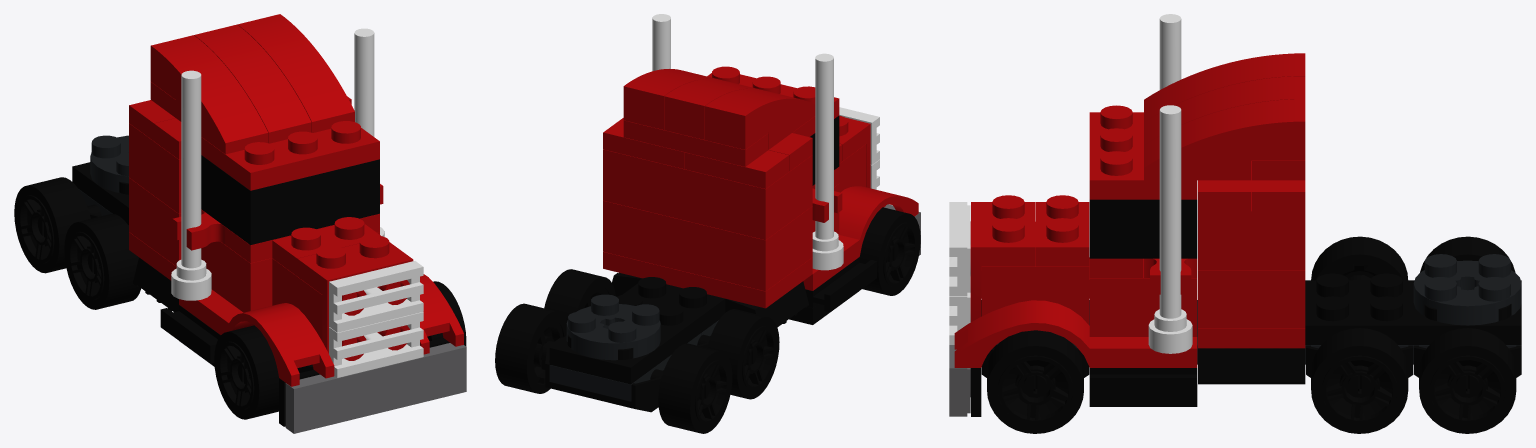
Rendered from 8664-RoadHero.fbx.
The picture shows the model from 3 angles, left to right: view 1: azimuth 30°, elevation 25°; view 2: azimuth 150°, elevation 25°; view 3: azimuth 270°, elevation 25°; orthographic projection. The views are drawn at different scales.
Visible parts, largest first — view 1: Part-50950 (×3), Part-3002 (×2), Part-2431, Part-2412 (×2), Part-50947 (×2), Part-3957 (×2), Part-3021, Part-3001 (×2), Part-50944 (×3), Part-44728, Part-50951 Tire-MR, Part-50951 Tire-RR (+13 smaller); view 2: Part-3001 (×2), Part-50950 (×3), Part-3795, Part-50944 (×4), Part-3957 (×2), Part-3794 (×3), Part-4032, Part-50951 Tire-RR, Part-50951 Tire-RL, Part-3021 (×2), Part-3020, Part-50947 (+13 smaller); view 3: Part-50950 (×3), Part-3001 (×2), Part-50944 (×4), Part-3002 (×2), Part-3795, Part-3957 (×2), Part-50947, Part-4032, Part-3021, Part-44728, Part-3003, Part-50951 Tire-ML (+16 smaller).
Boxes of the visible parts, x1,y1,x2,y2 form: Part-50950 (×3): (150,14,354,154); Part-3002 (×2): (201,155,379,312); Part-2431: (285,343,466,433); Part-2412 (×2): (329,261,423,377); Part-50947 (×2): (179,274,463,386); Part-3957 (×2): (171,28,384,300); Part-3021: (201,121,379,190); Part-3001 (×2): (129,123,181,266); Part-50944 (×3): (18,195,254,409); Part-44728: (297,235,413,360); Part-50951 Tire-MR: (64,213,141,309); Part-50951 Tire-RR: (14,177,90,273); Part-3001 (×2): (603,149,812,291); Part-50950 (×3): (623,69,815,149); Part-3795: (549,277,725,384); Part-50944 (×4): (531,222,916,424); Part-3957 (×2): (652,14,843,270); Part-3794 (×3): (603,118,812,188); Part-4032: (566,294,660,360); Part-50951 Tire-RR: (658,343,732,433); Part-50951 Tire-RL: (495,303,566,393); Part-3021 (×2): (549,66,839,401); Part-3020: (603,252,812,308); Part-50947: (803,186,918,290); Part-50950 (×3): (1144,53,1305,180); Part-3001 (×2): (1198,160,1305,328); Part-50944 (×4): (998,264,1505,424); Part-3002 (×2): (1089,199,1197,336); Part-3795: (1305,273,1521,344); Part-3957 (×2): (1148,14,1192,353); Part-50947: (954,300,1197,367); Part-4032: (1413,254,1521,325); Part-3021: (1089,105,1197,199); Part-44728: (970,195,1035,321); Part-3003: (981,222,1089,324); Part-50951 Tire-ML: (1311,328,1408,433).
Size of the model in its own units: 1.52 by 2.03 by 3.34.
